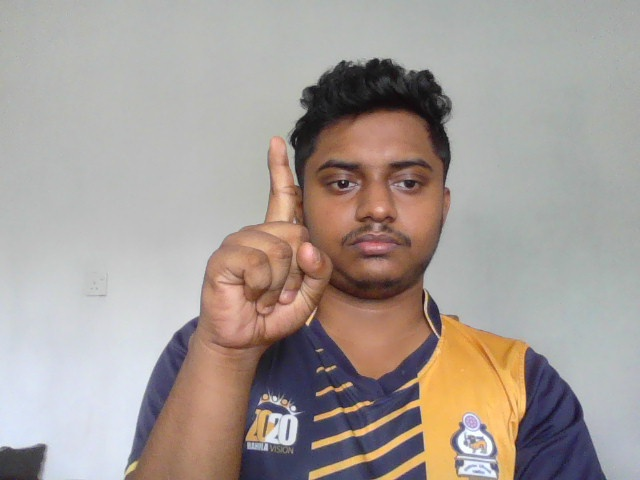Me: (196, 135, 335, 352)
